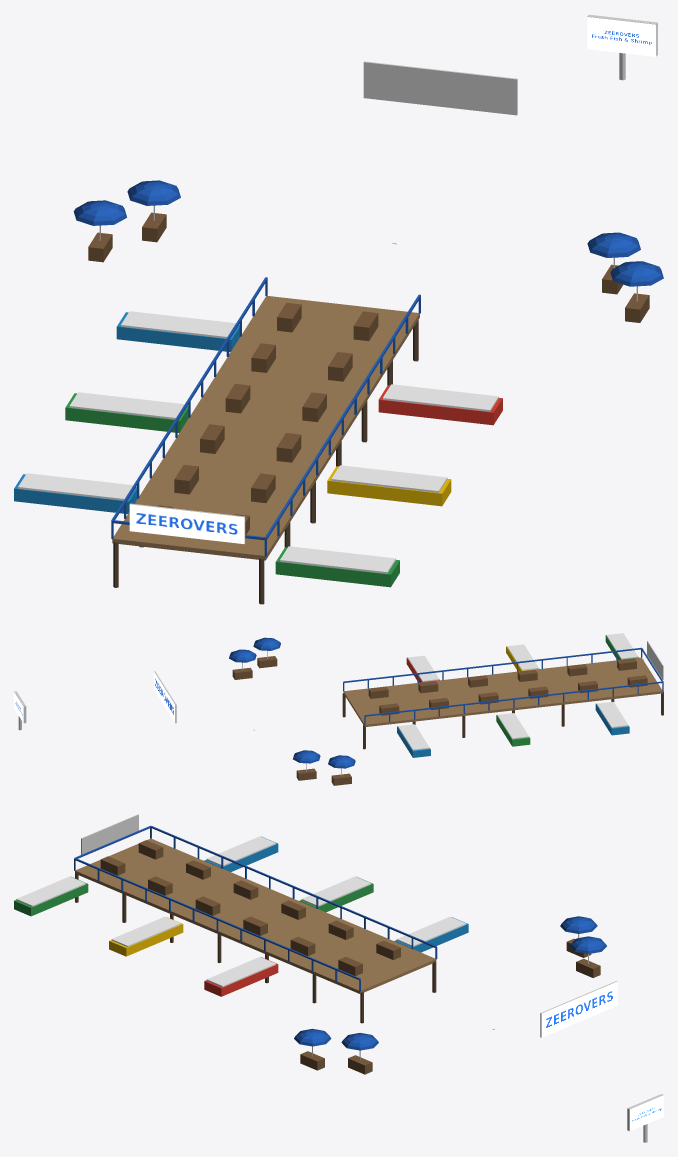
The model's file is zeerovers_fx.glb.
3 views of the same model, one above another, from view 1: azimuth 30°, elevation 25°; view 2: azimuth 150°, elevation 25°; view 3: azimuth 270°, elevation 25° (orthographic). The views are drawn at different scales.
Parts seen in each view (by area): view 1: zeerovers_fx_lod0; view 2: zeerovers_fx_lod0; view 3: zeerovers_fx_lod0.
Part boxes in pixels (<box>): zeerovers_fx_lod0: <box>14,14,663,604</box>; zeerovers_fx_lod0: <box>14,633,663,785</box>; zeerovers_fx_lod0: <box>14,814,663,1142</box>.
Size of what is drawn, in the model's own units: 53.28 by 7.1 by 48.33.
Materials: 14 (1 with a texture image).
